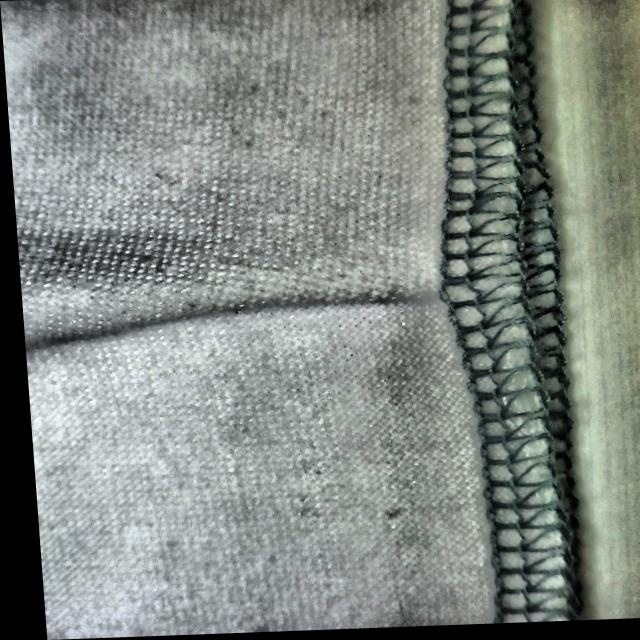seam: (216, 212, 530, 360)
